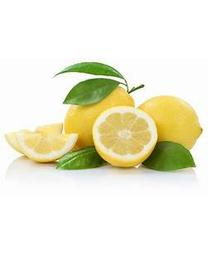lemon: (66, 87, 136, 148), (92, 106, 158, 167), (140, 95, 203, 152), (12, 128, 79, 163)
